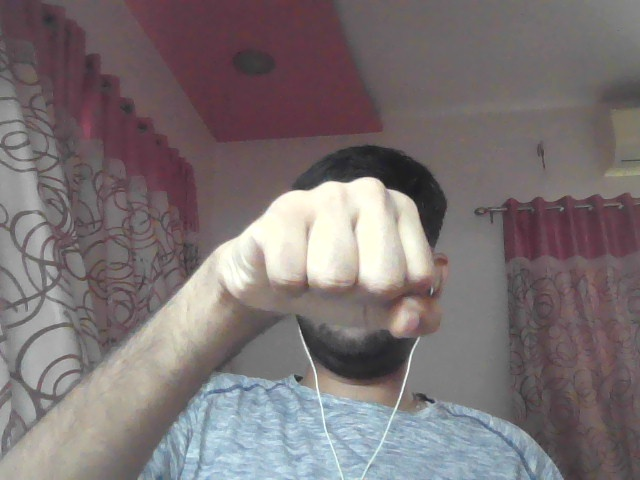હા: (206, 163, 459, 346)
